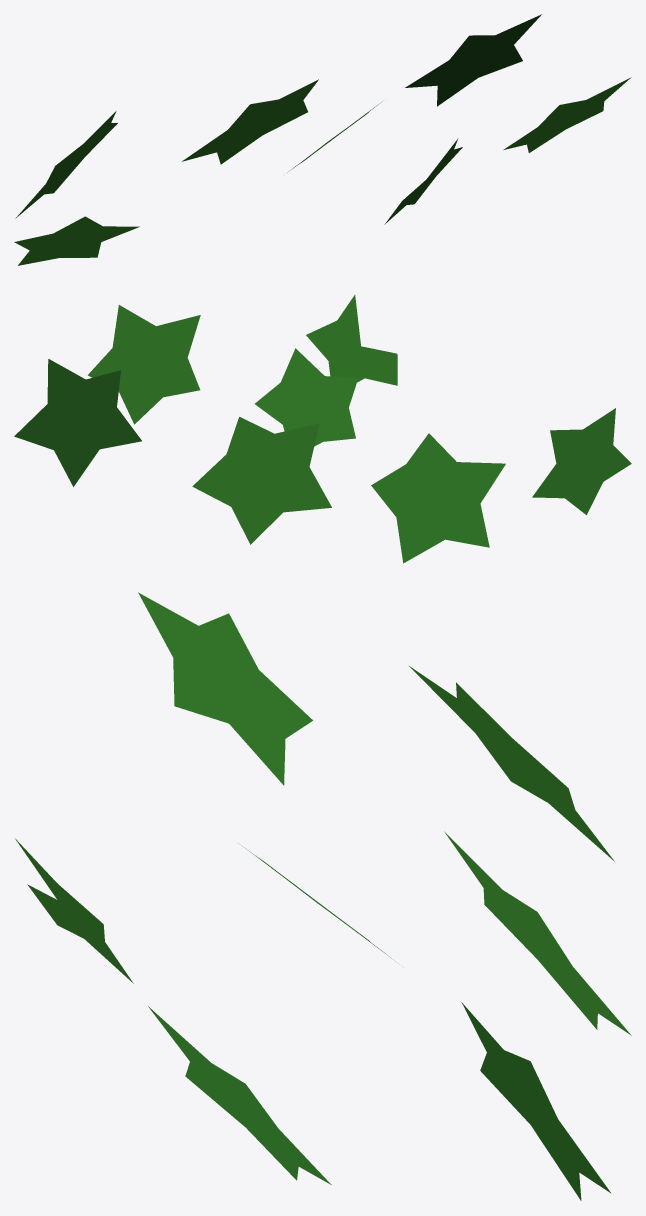
3 views of the same model, one above another, from view 1: azimuth 30°, elevation 25°; view 2: azimuth 150°, elevation 25°; view 3: azimuth 270°, elevation 25° (orthographic). The views are drawn at different scales.
Parts seen in each view (by area): view 1: r6c3_l01; view 2: r6c3_l01; view 3: r6c3_l01.
Boxes of the visible parts, x1,y1,x2,y2 form: r6c3_l01: (14, 14, 631, 265); r6c3_l01: (14, 295, 631, 563); r6c3_l01: (15, 592, 631, 1200).
Size of the model in its own units: 1.65 by 0.3701 by 0.8359.
